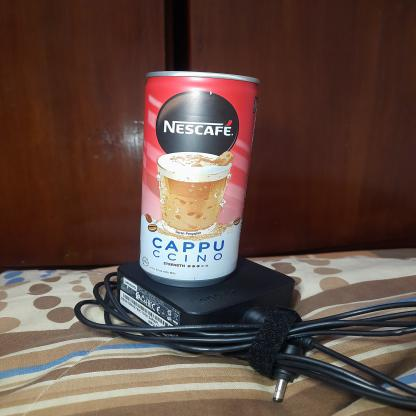mouse: (139, 68, 262, 292)
